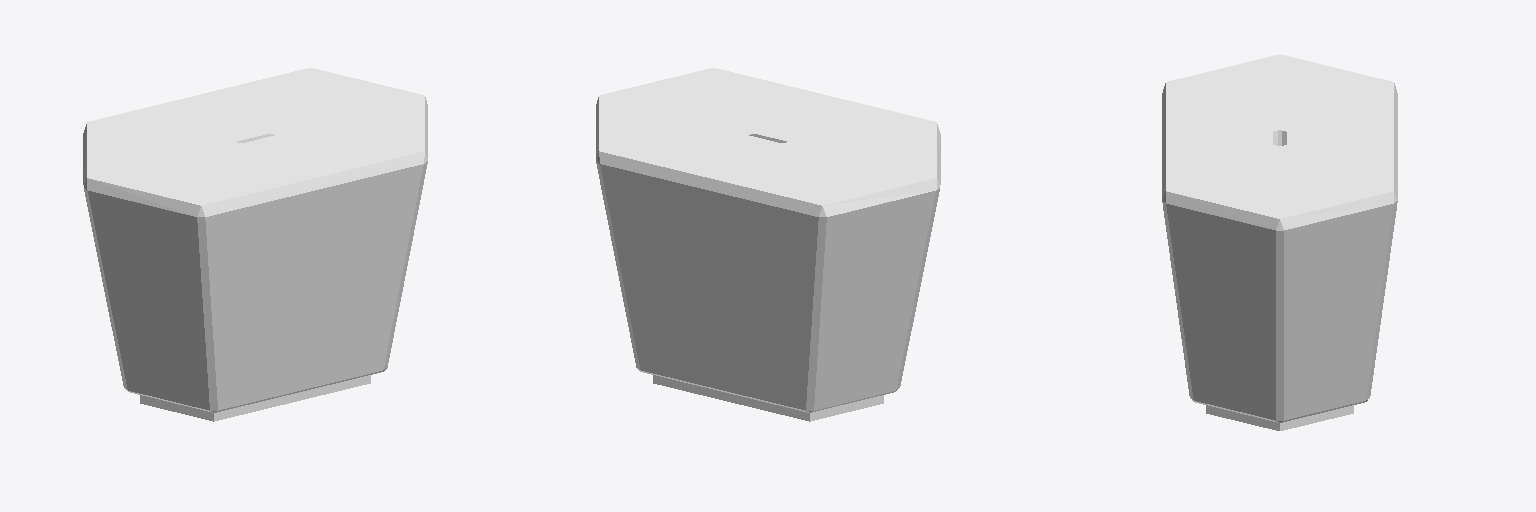
File: Tablesmall_1.obj
3 renders of one model, left to right at view 1: azimuth 30°, elevation 25°; view 2: azimuth 150°, elevation 25°; view 3: azimuth 270°, elevation 25°, orthographic.
Parts seen in each view (by area): view 1: Mesh57_Group62_Group61_Model.1; view 2: Mesh57_Group62_Group61_Model.1; view 3: Mesh57_Group62_Group61_Model.1.
Part boxes in pixels (x1,y1,x2,y2): Mesh57_Group62_Group61_Model.1: (83,68,427,421); Mesh57_Group62_Group61_Model.1: (596,68,940,421); Mesh57_Group62_Group61_Model.1: (1162,54,1397,430).
Bounding box in the file's own units: 49.9 × 33.38 × 29.89.